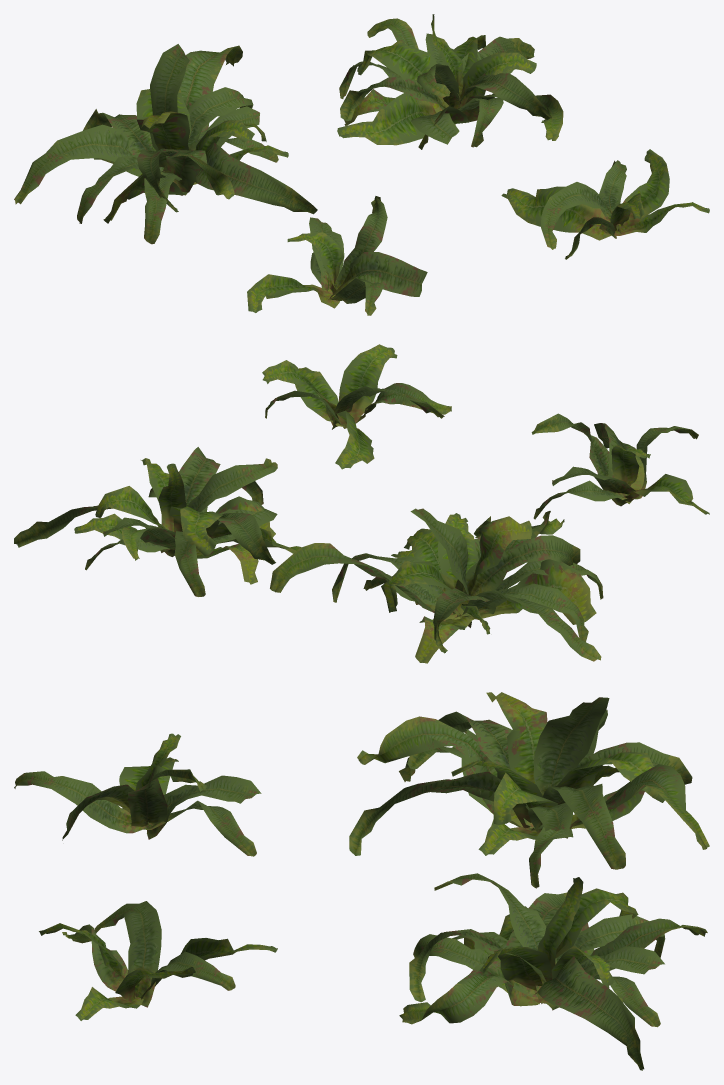
The model's file is fern_02.glb.
3 views of the same model, one above another, from view 1: azimuth 30°, elevation 25°; view 2: azimuth 150°, elevation 25°; view 3: azimuth 270°, elevation 25° (orthographic). The views are drawn at different scales.
Parts seen in each view (by area): view 1: fern_02_b, fern_02_c, fern_02_d, fern_02_a; view 2: fern_02_b, fern_02_c, fern_02_d, fern_02_a; view 3: fern_02_b, fern_02_c, fern_02_a, fern_02_d.
Boxes of the visible parts, x1,y1,x2,y2 form: fern_02_b: (14,44,317,244); fern_02_c: (337,14,563,149); fern_02_d: (501,149,709,259); fern_02_a: (247,196,427,315); fern_02_b: (270,508,603,663); fern_02_c: (14,447,300,596); fern_02_d: (262,344,451,469); fern_02_a: (531,413,709,519); fern_02_b: (349,692,709,888); fern_02_c: (399,873,707,1070); fern_02_a: (14,733,261,856); fern_02_d: (39,901,277,1020).
Size of the model in its own units: 1.97 by 0.4277 by 1.72.
Materials: 1 (1 with a texture image).
